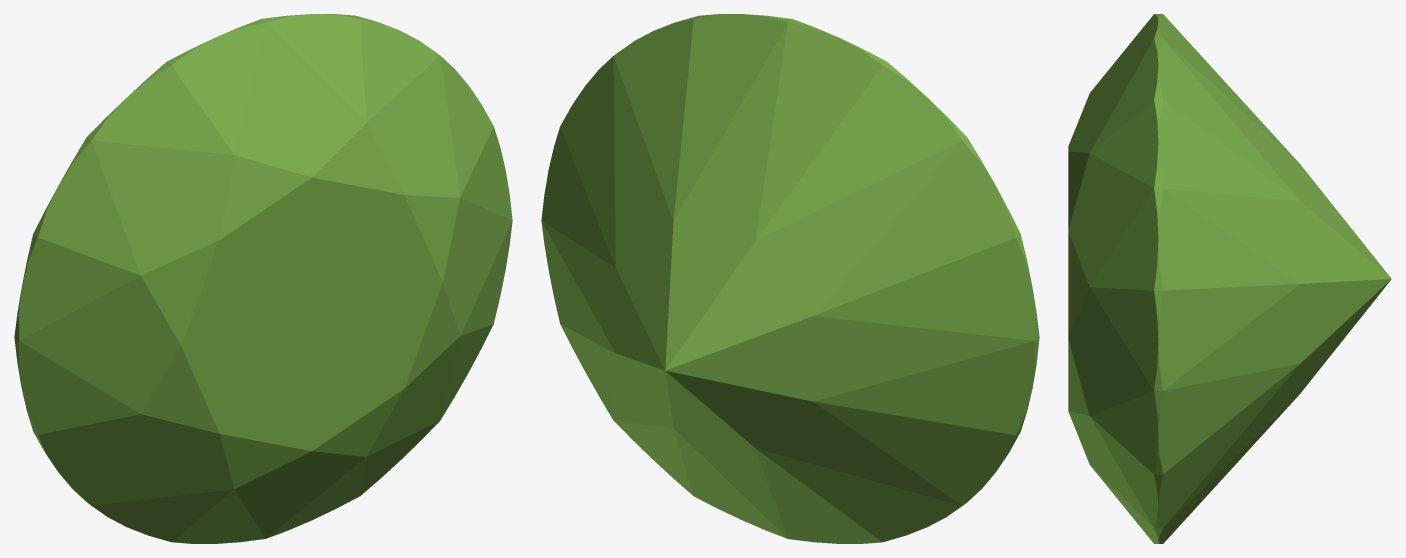
The model's file is greta.glb.
3 renders of one model, left to right at view 1: azimuth 30°, elevation 25°; view 2: azimuth 150°, elevation 25°; view 3: azimuth 270°, elevation 25°, orthographic. The views are drawn at different scales.
Parts seen in each view (by area): view 1: Greta; view 2: Greta; view 3: Greta.
Part boxes in pixels (x1=…): Greta: x1=14, y1=14, x2=512, y2=543; Greta: x1=541, y1=14, x2=1039, y2=543; Greta: x1=1068, y1=14, x2=1391, y2=543.
Size of the model in its own units: 2.12 by 2.12 by 1.3.
